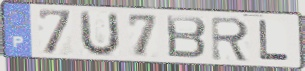7: (37, 8, 74, 56), (127, 13, 160, 59)
B: (164, 14, 209, 61)
L: (257, 18, 291, 63)
R: (209, 15, 252, 64)
U: (78, 10, 122, 58)
